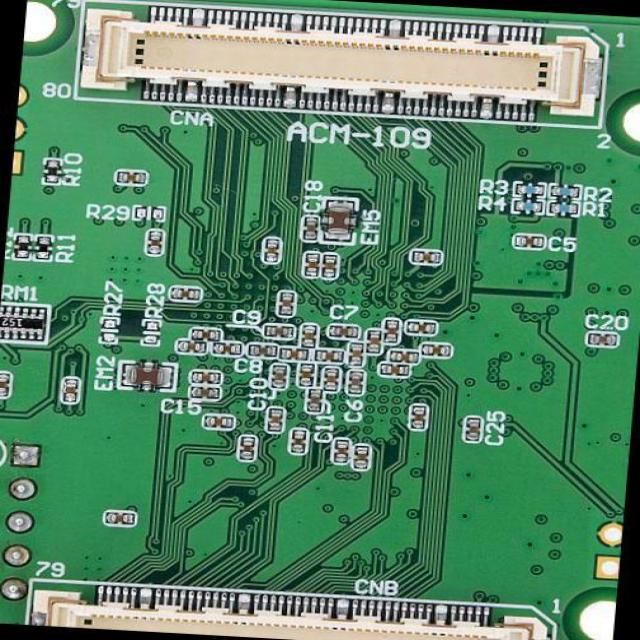Capacitor Jumper: (418, 340, 452, 358), (274, 288, 295, 317), (114, 168, 149, 185), (174, 337, 209, 354), (300, 214, 322, 241), (260, 237, 282, 264), (247, 340, 280, 358), (202, 412, 235, 430), (287, 428, 309, 455), (235, 432, 256, 460), (364, 327, 384, 356), (408, 247, 442, 264), (583, 330, 617, 347), (297, 321, 319, 347), (512, 231, 545, 248), (103, 509, 136, 526), (326, 323, 361, 339), (377, 361, 412, 377), (264, 406, 285, 432), (350, 442, 371, 468), (262, 322, 294, 339), (387, 347, 419, 364), (278, 345, 310, 362), (381, 317, 401, 344), (268, 362, 288, 389), (60, 376, 80, 403), (169, 284, 202, 300), (406, 318, 437, 335), (319, 252, 339, 278), (305, 386, 325, 412), (408, 403, 428, 429), (322, 366, 341, 393), (347, 369, 367, 394), (462, 414, 481, 440), (212, 339, 241, 356), (189, 326, 224, 340), (348, 340, 366, 367), (189, 384, 221, 399), (296, 363, 315, 388), (144, 228, 162, 254), (330, 436, 348, 462), (189, 369, 222, 383), (302, 251, 319, 277), (312, 348, 343, 362), (0, 370, 11, 397)
Connector: (75, 0, 612, 126), (25, 576, 558, 639), (586, 509, 624, 587), (11, 75, 37, 182)
EM: (118, 361, 175, 391), (323, 201, 354, 245)
Pads: (129, 203, 169, 223), (96, 314, 120, 343), (138, 317, 162, 345)
Pins: (0, 428, 46, 614)
Resistor: (510, 196, 548, 212), (41, 159, 64, 185), (513, 181, 549, 197), (546, 199, 582, 215), (548, 182, 583, 198), (13, 232, 32, 260), (36, 234, 54, 259)
Resistor Network: (0, 299, 52, 344)
